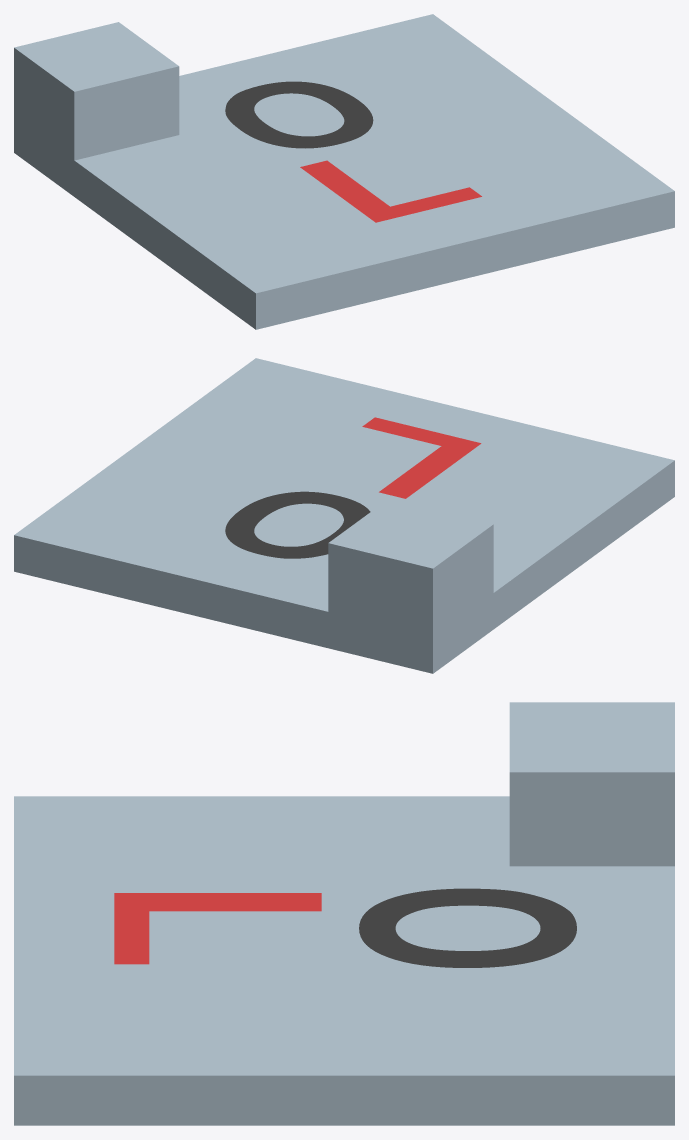
3 renders of one model, top to bottom at view 1: azimuth 30°, elevation 25°; view 2: azimuth 150°, elevation 25°; view 3: azimuth 270°, elevation 25°, orthographic. The views are drawn at different scales.
Parts seen in each view (by area): view 1: colored meshes for gh; view 2: colored meshes for gh; view 3: colored meshes for gh.
Boxes of the visible parts, <box> form: colored meshes for gh: <box>14,14,674,329</box>; colored meshes for gh: <box>14,358,674,673</box>; colored meshes for gh: <box>14,702,674,1125</box>.
Size of the model in its own units: 32.58 by 7.82 by 32.58.
